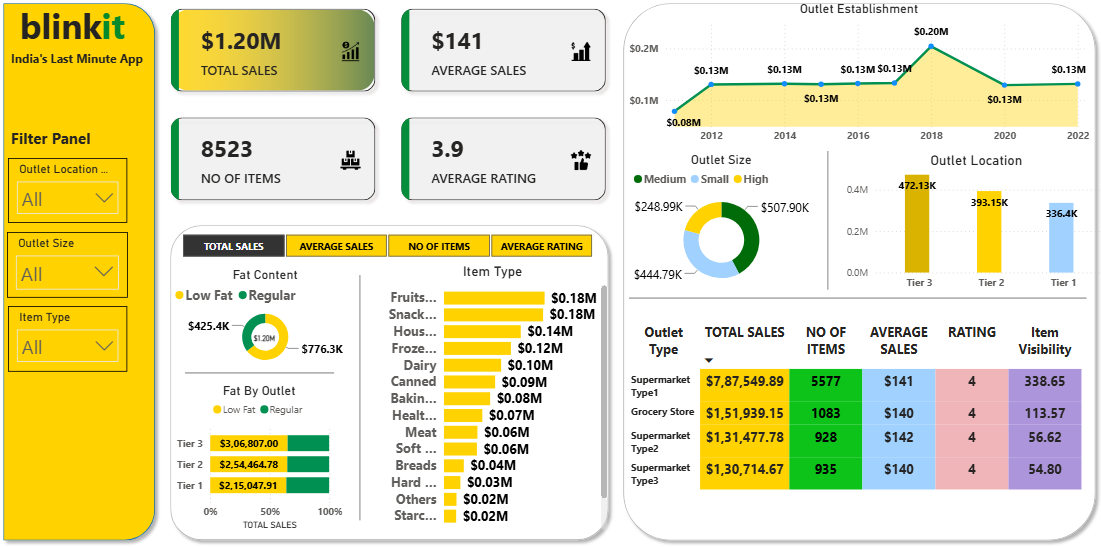

The page's visual inventory and layout, read from the dashboard file:
{"tool":"powerbi","page":{"name":"Page 1","canvas":[1400,800],"ordinal":0},"visuals":[{"type":"shape","box":[778.6,60,600,680],"z":0},{"type":"shape","box":[14.5,60.1,205,680],"z":1000},{"type":"textbox","box":[40,63.3,153.3,78.7],"z":2000},{"type":"textbox","box":[28.3,121.7,203.3,38.3],"z":3000},{"type":"cardVisual","fields":{"Data":["BlinkIT Grocery Data.Total Sales","BlinkIT Grocery Data.Avg Sales","BlinkIT Grocery Data.No of items","BlinkIT Grocery Data.Avg Rating"]},"box":[213.5,59.4,570,270],"z":4000},{"type":"shape","box":[220,334,558,406],"z":5000},{"type":"donutChart","title":"Fat Content","fields":{"Y":["BlinkIT Grocery Data.TOTAL SALES"],"Category":["BlinkIT Grocery Data.Item Fat Content"]},"box":[229.1,394.5,234.7,127.3],"z":6000},{"type":"slicer","fields":{"Values":["Metrics.Metrics"]},"box":[219.2,347.9,554.3,41],"z":7000},{"type":"cardVisual","fields":{"Data":["BlinkIT Grocery Data.TOTAL SALES"]},"box":[297,453.9,97.4,55.5],"z":8000},{"type":"hundredPercentStackedBarChart","title":"Fat By Outlet","fields":{"Y":["BlinkIT Grocery Data.TOTAL SALES"],"Series":["BlinkIT Grocery Data.Item Fat Content"],"Category":["BlinkIT Grocery Data.Outlet Location Type"]},"box":[231.9,537.4,214.9,185.3],"z":9000},{"type":"barChart","title":"Item Type","fields":{"Y":["BlinkIT Grocery Data.TOTAL SALES"],"Category":["BlinkIT Grocery Data.Item Type"]},"box":[480.8,388.9,292.7,333.7],"z":10000},{"type":"lineChart","title":"Outlet Establishment","fields":{"Category":["BlinkIT Grocery Data.Outlet Establishment Year"],"Y":["BlinkIT Grocery Data.TOTAL SALES"]},"box":[790,67.1,577,183.8],"z":11000},{"type":"donutChart","title":"Outlet Size","fields":{"Category":["BlinkIT Grocery Data.Outlet Size"],"Y":["BlinkIT Grocery Data.TOTAL SALES"]},"box":[794.3,252.9,227.7,175.4],"z":12000},{"type":"ribbonChart","title":"Outlet Location ","fields":{"Category":["BlinkIT Grocery Data.Outlet Location Type"],"Y":["Sum(BlinkIT Grocery Data.Sales)"]},"box":[1057.1,252.9,331.4,178.6],"z":13000},{"type":"pivotTable","fields":{"Rows":["BlinkIT Grocery Data.Outlet Type"],"Values":["BlinkIT Grocery Data.TOTAL SALES","BlinkIT Grocery Data.NO OF ITEMS","BlinkIT Grocery Data.AVERAGE SALES","BlinkIT Grocery Data.AVERAGE RATING","Sum(BlinkIT Grocery Data.Item Visibility)"]},"box":[787.1,454.3,582.9,252.9],"z":14000},{"type":"slicer","fields":{"Values":["BlinkIT Grocery Data.Outlet Location Type"]},"box":[30,260,147.1,80],"z":15000},{"type":"slicer","fields":{"Values":["BlinkIT Grocery Data.Outlet Size"]},"box":[28.6,351.4,148.6,81.4],"z":16000},{"type":"slicer","fields":{"Values":["BlinkIT Grocery Data.Item Type"]},"box":[30,442.9,147.1,81.4],"z":17000},{"type":"shape","box":[247.5,516.2,183.8,17],"z":18000},{"type":"shape","box":[455.4,404.4,17,302.6],"z":19000},{"type":"shape","box":[1032.9,251.4,14.3,171.4],"z":20000},{"type":"shape","box":[794.3,422.9,564.3,20],"z":21000},{"type":"textbox","box":[28.6,218.6,125.7,41.4],"z":22000}]}

Visuals, with their boxes on the page's 1400x800 design canvas (x1, y1, x2, y2). These are canvas units, not pixel positions in the 1101x547 screenshot, which may show the page scaled, cropped or inside an application window:
shape: locate(779, 60, 1379, 740)
shape: locate(14, 60, 220, 740)
textbox: locate(40, 63, 193, 142)
textbox: locate(28, 122, 232, 160)
cardVisual - BlinkIT Grocery Data.Total Sales x BlinkIT Grocery Data.Avg Sales: locate(214, 59, 784, 329)
shape: locate(220, 334, 778, 740)
"Fat Content" donutChart: locate(229, 394, 464, 522)
slicer - Metrics.Metrics: locate(219, 348, 774, 389)
cardVisual - BlinkIT Grocery Data.TOTAL SALES: locate(297, 454, 394, 509)
"Fat By Outlet" hundredPercentStackedBarChart: locate(232, 537, 447, 723)
"Item Type" barChart: locate(481, 389, 774, 723)
"Outlet Establishment" lineChart: locate(790, 67, 1367, 251)
"Outlet Size" donutChart: locate(794, 253, 1022, 428)
"Outlet Location " ribbonChart: locate(1057, 253, 1388, 432)
pivotTable - BlinkIT Grocery Data.Outlet Type x BlinkIT Grocery Data.TOTAL SALES: locate(787, 454, 1370, 707)
slicer - BlinkIT Grocery Data.Outlet Location Type: locate(30, 260, 177, 340)
slicer - BlinkIT Grocery Data.Outlet Size: locate(29, 351, 177, 433)
slicer - BlinkIT Grocery Data.Item Type: locate(30, 443, 177, 524)
shape: locate(248, 516, 431, 533)
shape: locate(455, 404, 472, 707)
shape: locate(1033, 251, 1047, 423)
shape: locate(794, 423, 1359, 443)
textbox: locate(29, 219, 154, 260)
